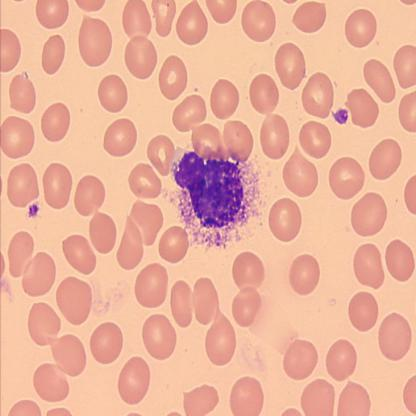Basophil: (170, 149, 245, 231)
